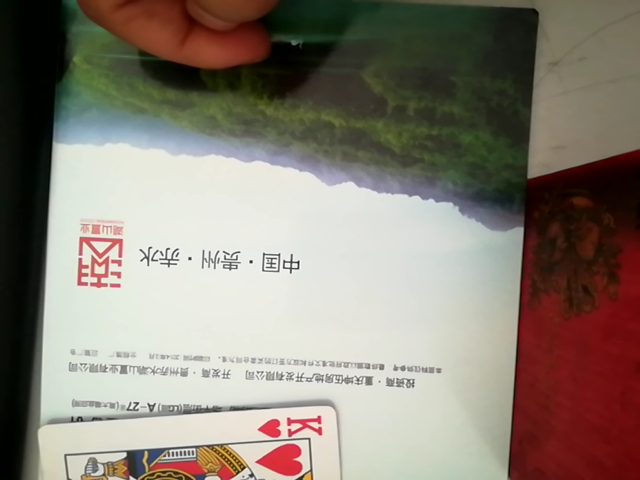hx k: (46, 398, 367, 480)
